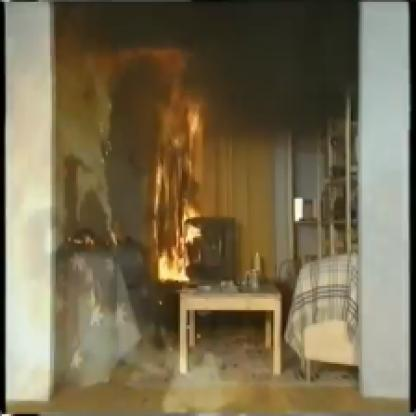fire: (138, 87, 216, 288)
